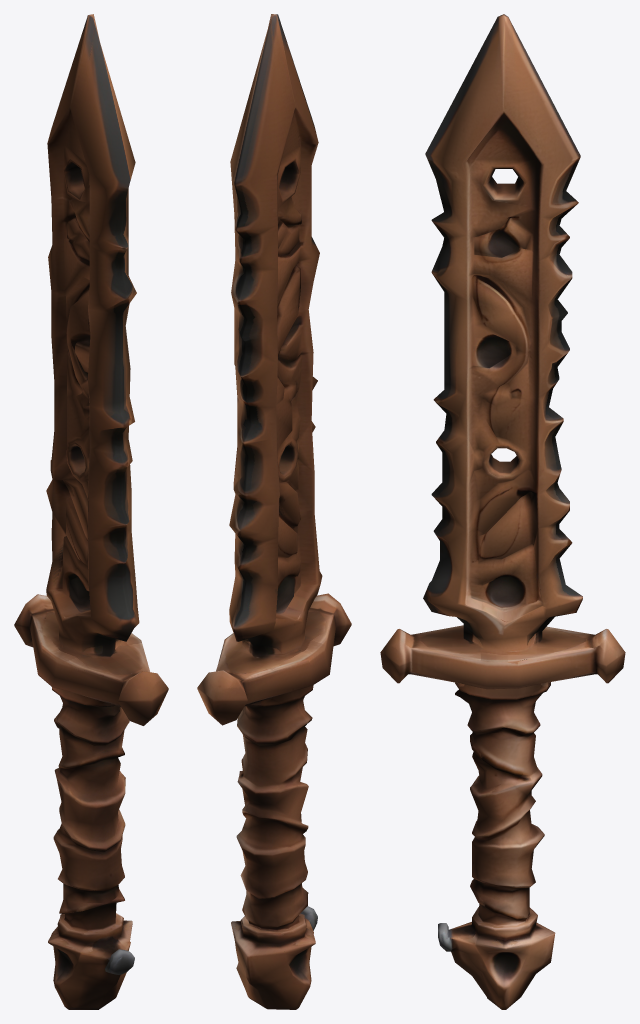
File: goblin_iron_falchion.glb
3 views of the same model, side by side, from view 1: azimuth 30°, elevation 25°; view 2: azimuth 150°, elevation 25°; view 3: azimuth 270°, elevation 25° (orthographic).
Parts seen in each view (by area): view 1: base_model_path; view 2: base_model_path; view 3: base_model_path.
Part boxes in pixels (box(x1,y1,x2,y2)): base_model_path: box(14, 14, 168, 1009); base_model_path: box(197, 14, 351, 1009); base_model_path: box(380, 14, 625, 1009).
Bounding box in the file's own units: 0.0998 × 0.9958 × 0.225.
1 material, 1 textured.
